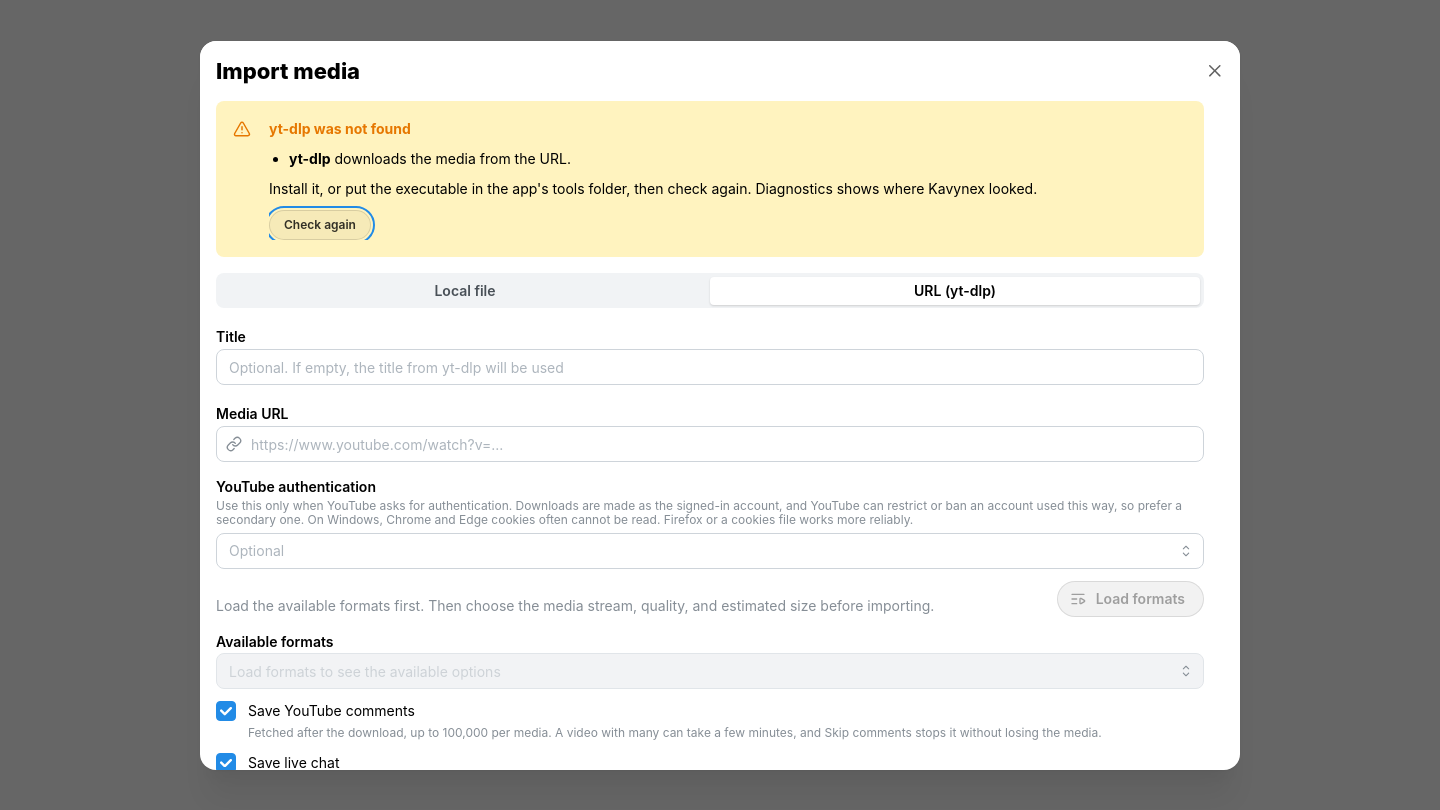
Scenario: AddMediaModal › puts focus back in the form when Check again finds the missing tool
Click the button "Check again" at [320, 225], box [269, 210, 371, 240]
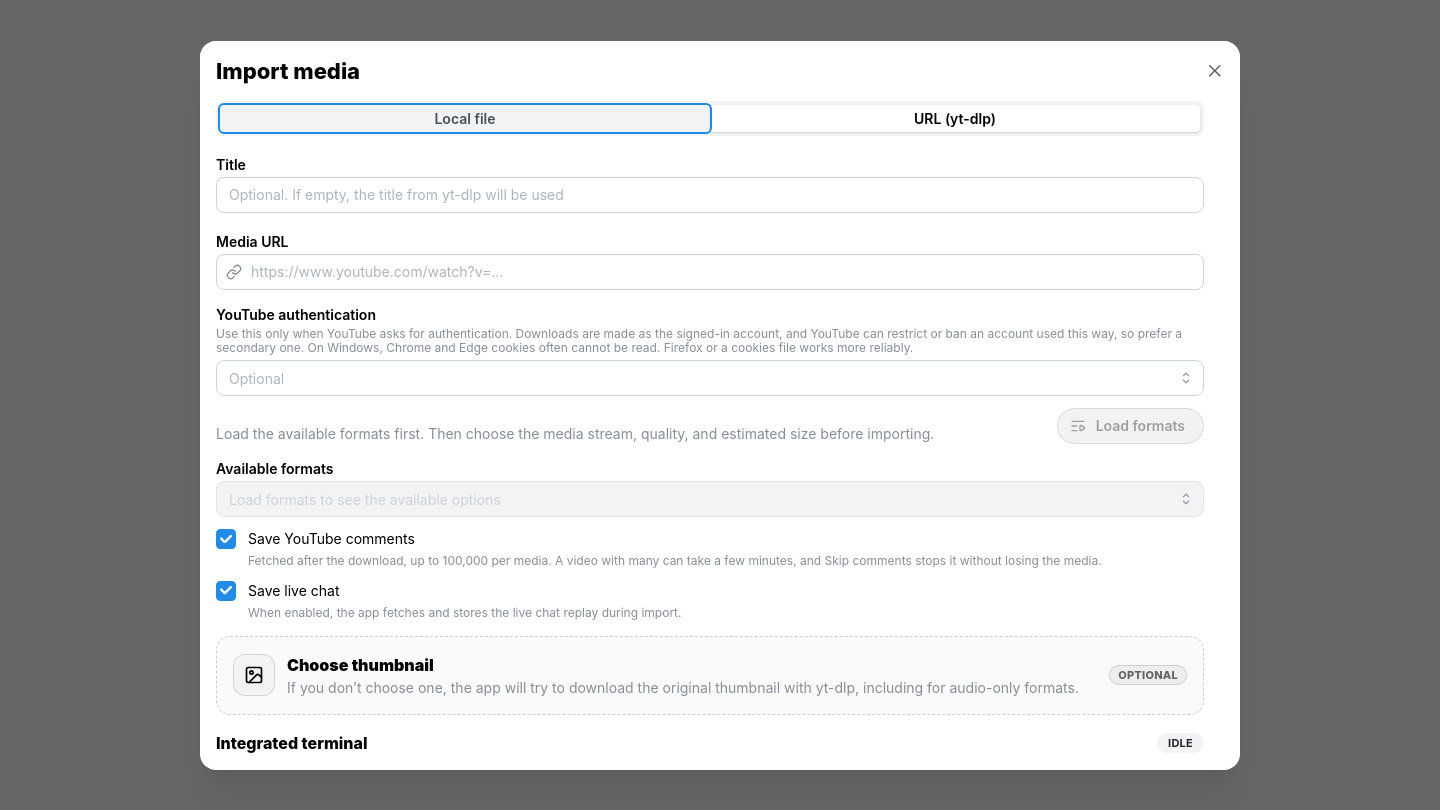
Expected: the text "yt-dlp was not found" is gone
